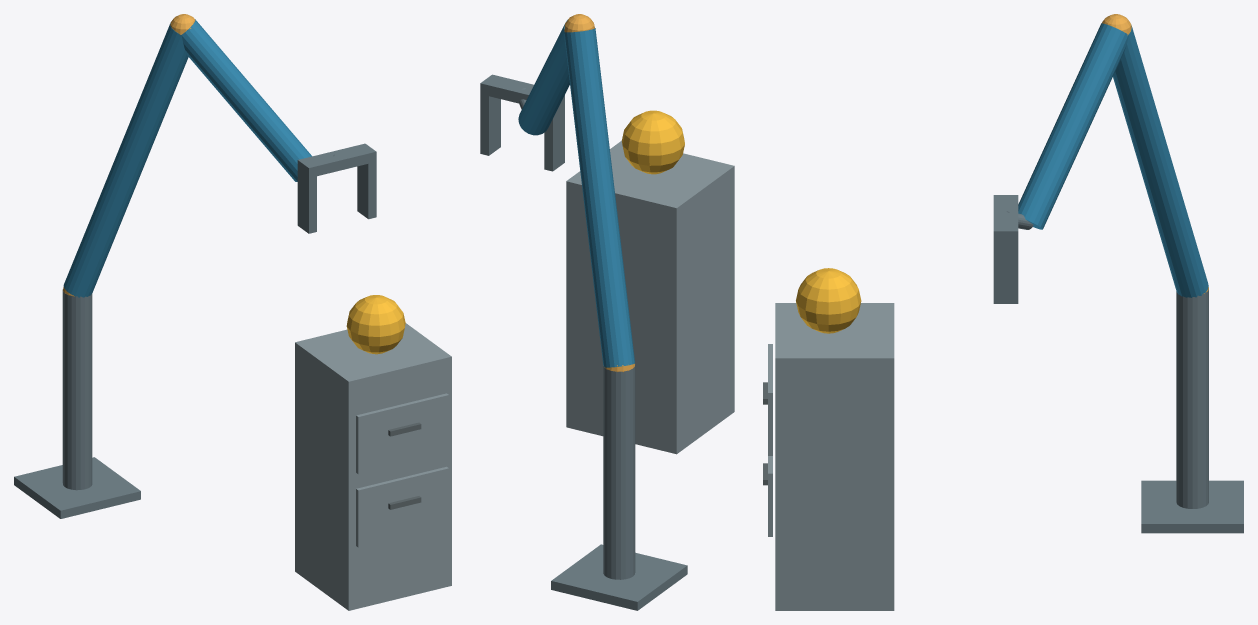
3 renders of one model, left to right at view 1: azimuth 30°, elevation 25°; view 2: azimuth 150°, elevation 25°; view 3: azimuth 270°, elevation 25°, orthographic. The views are drawn at different scales.
Visible parts, largest first — view 1: cabinet_1 body, moving link 1, fixed post, cabinet_1 drawer front.001, cabinet_1 drawer front, moving link 2, pedestal, ball ball_1, gripper bridge, gripper finger -1, gripper finger 1; view 2: cabinet_1 body, moving link 1, fixed post, pedestal, ball ball_1, moving link 2, gripper finger 1, gripper finger -1, gripper bridge, joint 2; view 3: cabinet_1 body, moving link 1, moving link 2, fixed post, pedestal, ball ball_1, gripper finger 1, gripper bridge.
Boxes of the visible parts, box(x1,y1,x2,y2) form: cabinet_1 body: box(295, 323, 451, 610); moving link 1: box(63, 23, 188, 297); fixed post: box(62, 289, 92, 490); cabinet_1 drawer front.001: box(356, 393, 448, 474); cabinet_1 drawer front: box(356, 466, 448, 547); moving link 2: box(181, 19, 311, 181); pedestal: box(14, 457, 140, 518); ball ball_1: box(346, 295, 405, 354); gripper bridge: box(297, 143, 376, 177); gripper finger -1: box(297, 170, 316, 233); gripper finger 1: box(357, 162, 376, 219); cabinet_1 body: box(566, 141, 734, 454); moving link 1: box(564, 28, 634, 367); fixed post: box(603, 364, 635, 579); pedestal: box(551, 544, 687, 610); ball ball_1: box(621, 110, 684, 174); moving link 2: box(518, 19, 569, 135); gripper finger 1: box(480, 94, 500, 155); gripper finger -1: box(544, 103, 564, 171); gripper bridge: box(480, 74, 564, 107); joint 2: box(564, 14, 594, 32); cabinet_1 body: box(775, 303, 894, 610); moving link 1: box(1113, 25, 1208, 297); moving link 2: box(1018, 23, 1128, 229); fixed post: box(1176, 289, 1208, 508); pedestal: box(1141, 480, 1243, 533); ball ball_1: box(796, 268, 861, 333); gripper finger 1: box(993, 242, 1018, 303); gripper bridge: box(993, 195, 1018, 242).
Size of the model in its own units: 0.7728 by 1.44 by 1.17.
